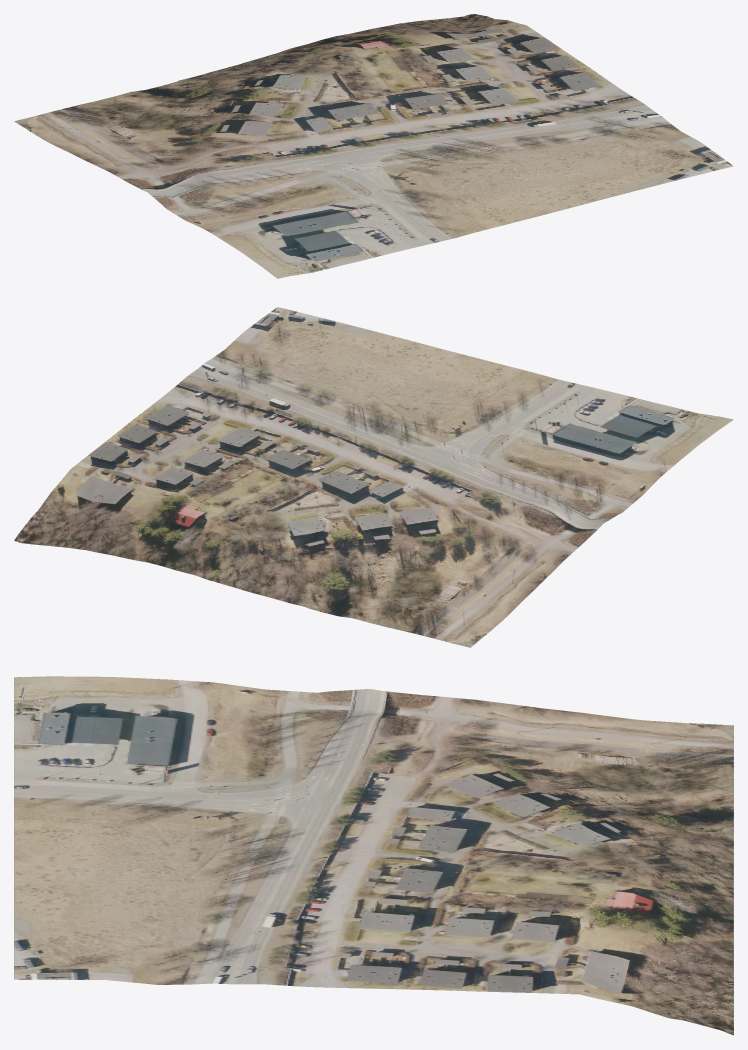
File: CM_Terrain_24491278_6818770.fbx
3 renders of one model, top to bottom at view 1: azimuth 30°, elevation 25°; view 2: azimuth 150°, elevation 25°; view 3: azimuth 270°, elevation 25°, orthographic. The views are drawn at different scales.
Visible parts, largest first — view 1: CM_Terrain_24491278_6818770_LOD0; view 2: CM_Terrain_24491278_6818770_LOD0; view 3: CM_Terrain_24491278_6818770_LOD0.
Part boxes in pixels (x1=…): CM_Terrain_24491278_6818770_LOD0: x1=14, y1=14, x2=733, y2=278; CM_Terrain_24491278_6818770_LOD0: x1=14, y1=307, x2=733, y2=647; CM_Terrain_24491278_6818770_LOD0: x1=14, y1=676, x2=733, y2=1035.
Size of what is drawn, in the model's own units: 205 by 17.87 by 205.
